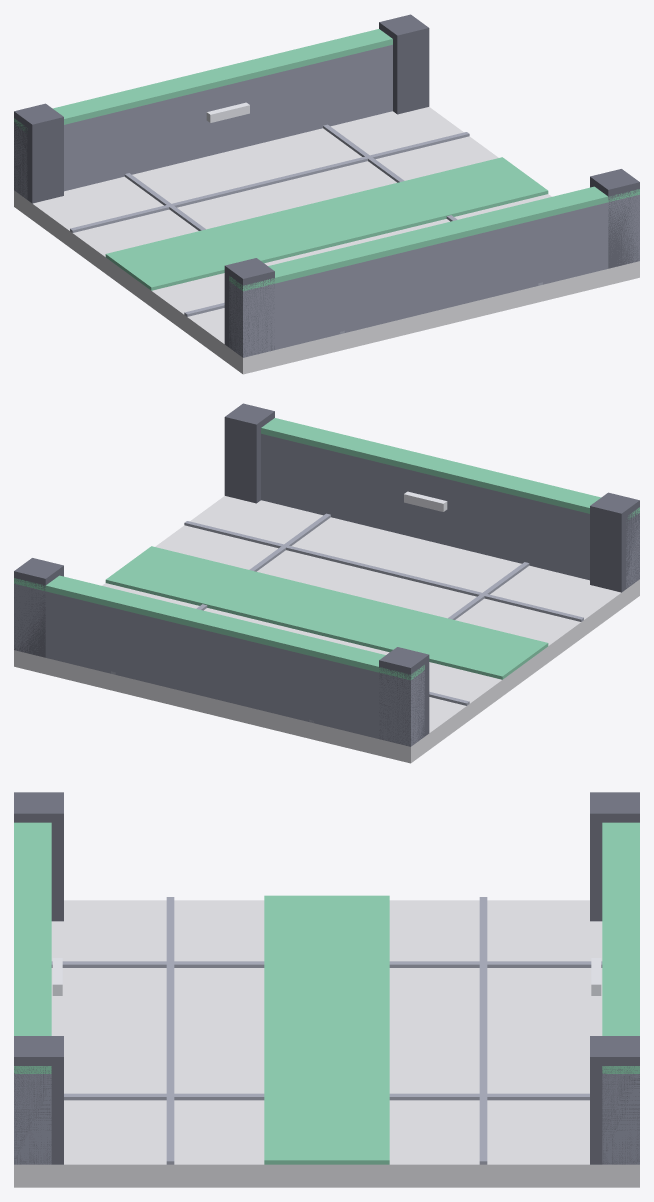
Rendered from walkway-1x1-straight.glb.
3 views of the same model, one above another, from view 1: azimuth 30°, elevation 25°; view 2: azimuth 150°, elevation 25°; view 3: azimuth 270°, elevation 25° (orthographic). The views are drawn at different scales.
Parts seen in each view (by area): view 1: walkway-1x1-straight; view 2: walkway-1x1-straight; view 3: walkway-1x1-straight.
Boxes of the visible parts, <box> form: walkway-1x1-straight: <box>14,14,639,374</box>; walkway-1x1-straight: <box>14,403,639,763</box>; walkway-1x1-straight: <box>14,792,639,1187</box>.
Size of the model in its own units: 1 by 0.23 by 1.
1 material, 1 textured.
